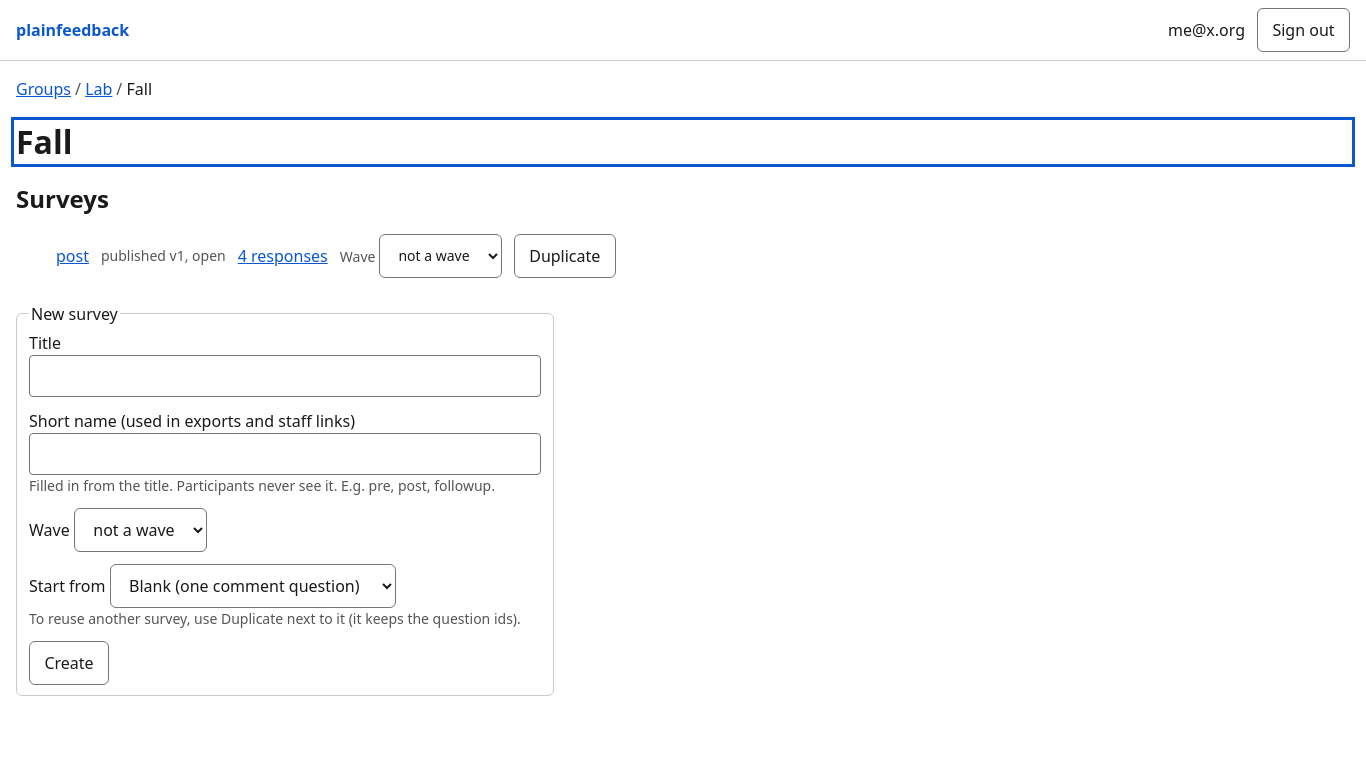
it: duplicate and templates (#74) › explains a short name that is taken in the target event
Click the button with aria-label "Duplicate post".
click(565, 256)  # box [514,234,616,278]
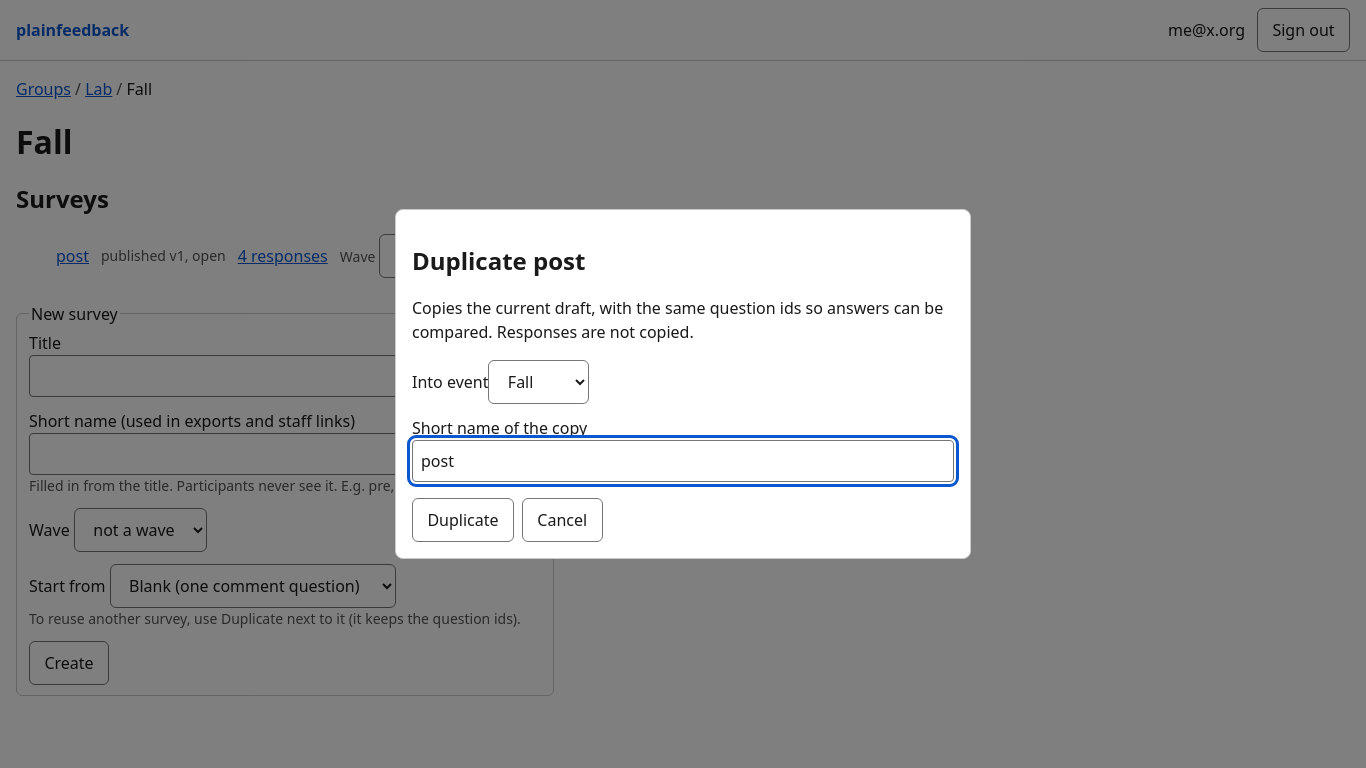
Click the button "Duplicate" below "Short name of the copy".
click(463, 520)  # box [412,498,514,542]
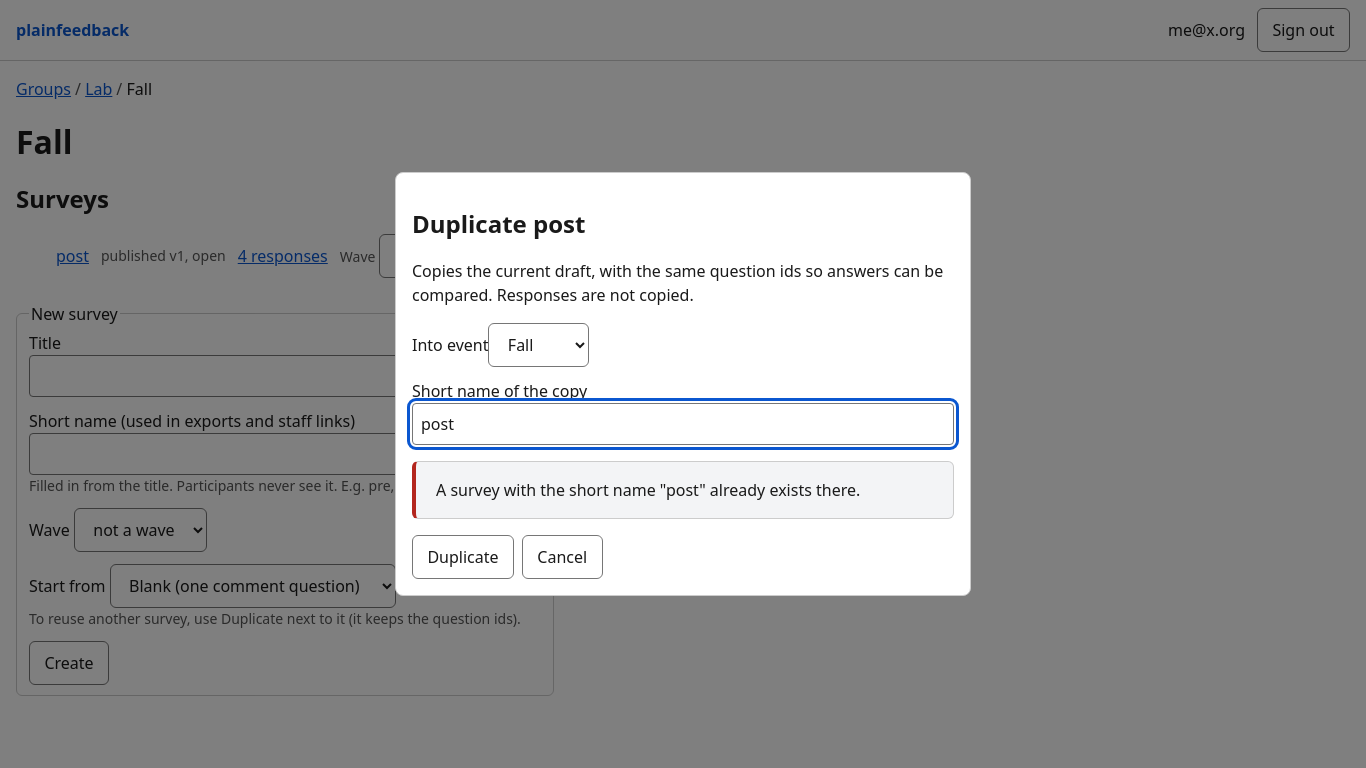
Expected: the text "A survey with the short name \"post\" already exists there." is shown, [412,461,954,519]
